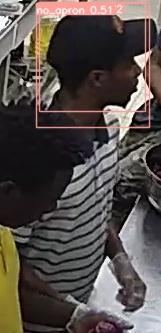no_apron: (37, 10, 144, 333)
